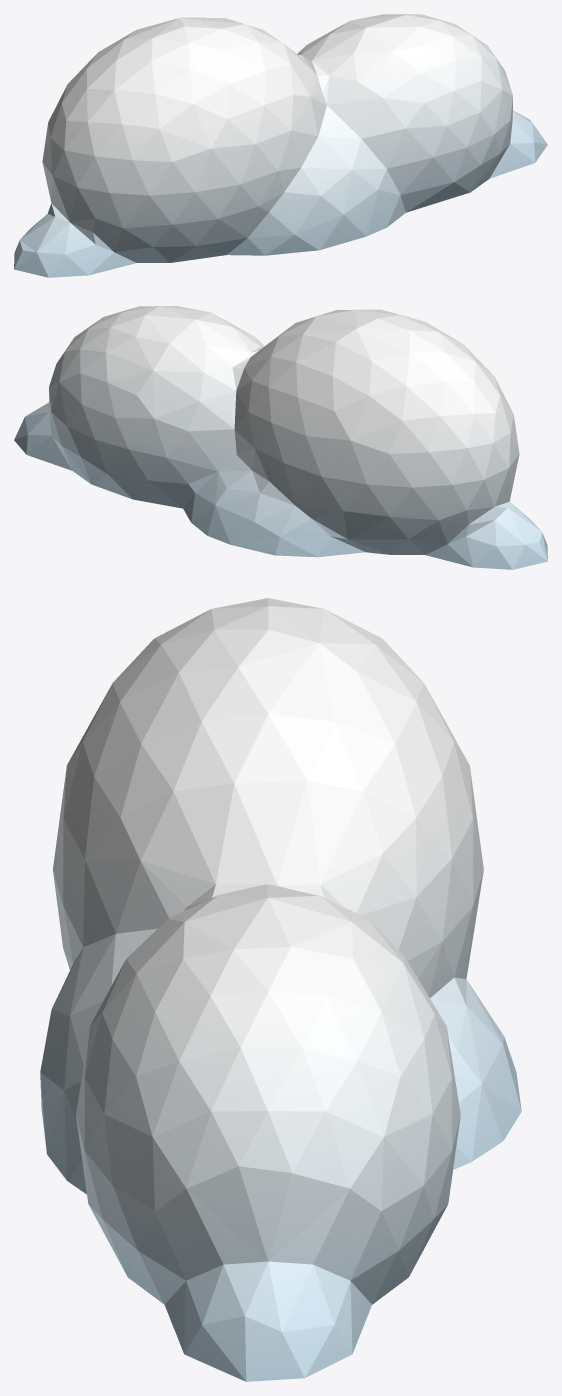
Rendered from cloud_menu_B.fbx.
The picture shows the model from 3 angles, top to bottom: view 1: azimuth 30°, elevation 25°; view 2: azimuth 150°, elevation 25°; view 3: azimuth 270°, elevation 25°; orthographic projection. The views are drawn at different scales.
Parts seen in each view (by area): view 1: cloud_menu_B; view 2: cloud_menu_B; view 3: cloud_menu_B.
Part boxes in pixels (x1,y1,x2,y2): cloud_menu_B: (14,14,547,277); cloud_menu_B: (14,306,547,569); cloud_menu_B: (40,598,521,1381).
Size of the model in its own units: 39.64 by 14.43 by 15.64.
